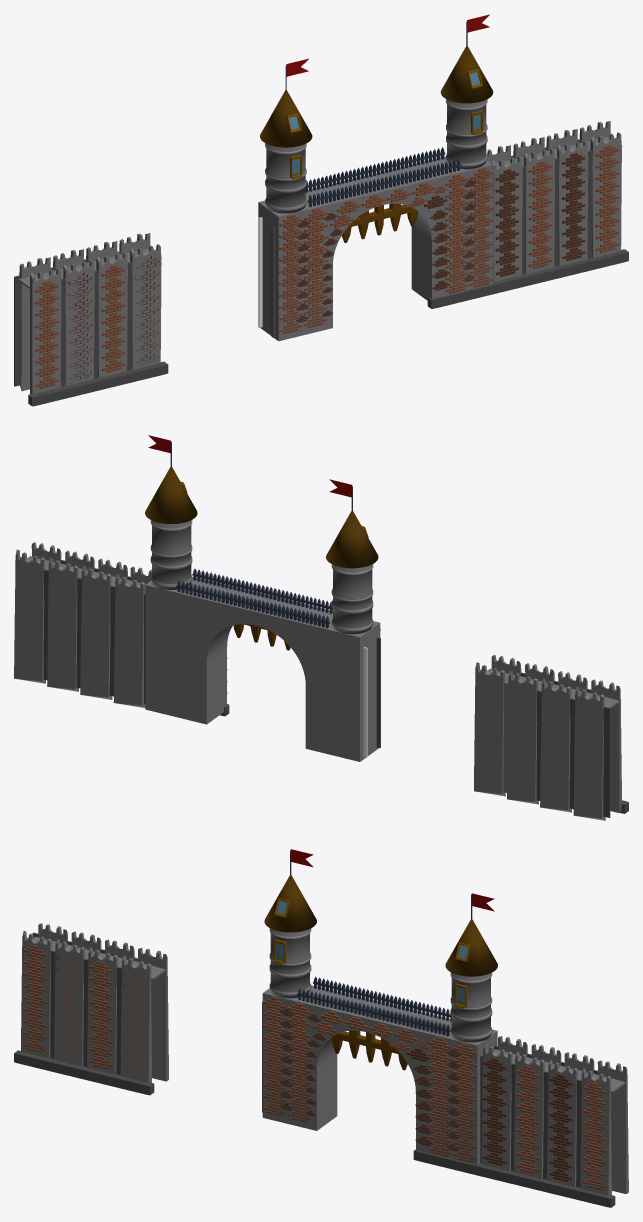
The model's file is wall segment .fbx.
The picture shows the model from 3 angles, top to bottom: view 1: azimuth 30°, elevation 25°; view 2: azimuth 150°, elevation 25°; view 3: azimuth 330°, elevation 25°; orthographic projection.
Visible parts, largest first — view 1: Cube.074, Cube.180, Cube.075, Cylinder, Cylinder.001, Cube.043, Cube.021, Cube.020, Cube, Cube.186, Cube.184, Cube.185 (+12 smaller); view 2: Cube.180, Cube.074, Cube.066, Cube.067, Cube.044, Cube.087, Cylinder, Cylinder.001, Cone, Cone.001, Cube.082, Cube.081 (+3 smaller); view 3: Cube.074, Cube.180, Cube.075, Cylinder.001, Cylinder, Cube.043, Cube.020, Cube.087, Cube, Cube.021, Cube.186, Cube.184 (+12 smaller).
Part boxes in pixels (x1,y1,x2,y2): Cube.074: [14, 233, 168, 406]; Cube.180: [258, 156, 493, 341]; Cube.075: [427, 249, 628, 308]; Cylinder: [265, 143, 306, 213]; Cylinder.001: [446, 99, 487, 169]; Cube.043: [590, 132, 621, 257]; Cube.021: [557, 140, 588, 266]; Cube.020: [523, 148, 554, 274]; Cube: [491, 156, 522, 281]; Cube.186: [445, 174, 468, 293]; Cube.184: [279, 214, 302, 334]; Cube.185: [304, 208, 327, 328]; Cube.180: [145, 577, 380, 761]; Cube.074: [474, 655, 628, 820]; Cube.066: [80, 565, 112, 699]; Cube.067: [47, 557, 78, 691]; Cube.044: [113, 574, 145, 707]; Cube.087: [14, 549, 45, 683]; Cylinder: [331, 564, 373, 634]; Cylinder.001: [150, 520, 192, 589]; Cone: [326, 511, 378, 568]; Cone.001: [145, 466, 197, 523]; Cube.082: [176, 580, 329, 628]; Cube.081: [192, 568, 332, 613]; Cube.074: [14, 923, 168, 1095]; Cube.180: [262, 985, 497, 1164]; Cube.075: [413, 1149, 615, 1207]; Cylinder.001: [450, 972, 492, 1042]; Cylinder: [269, 928, 311, 998]; Cube.043: [580, 1068, 611, 1195]; Cube.020: [513, 1051, 544, 1178]; Cube.087: [597, 1060, 628, 1193]; Cube: [481, 1043, 512, 1171]; Cube.021: [547, 1060, 577, 1187]; Cube.186: [428, 1037, 452, 1157]; Cube.184: [262, 996, 285, 1116].
Bounding box in the file's own units: 5910 × 2553 × 450.
